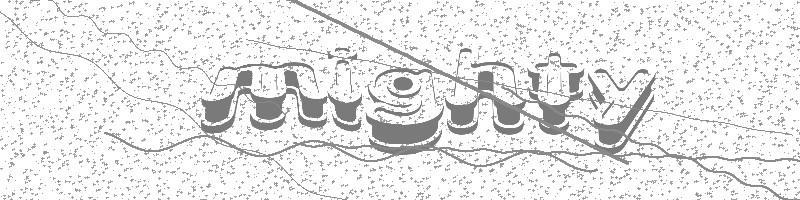g: (366, 62, 444, 156)
h: (441, 44, 531, 146)
i: (324, 45, 364, 140)
m: (199, 57, 330, 133)
t: (531, 50, 585, 133)
y: (584, 66, 661, 153)
